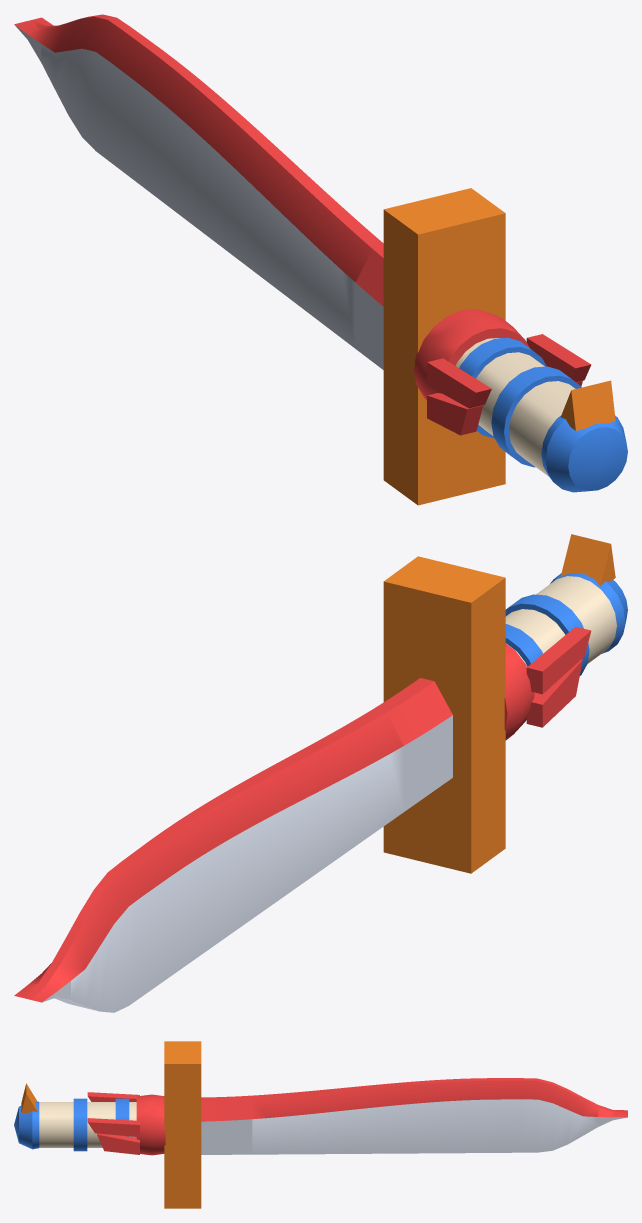
The model's file is Sword_BanditsMachete.glb.
3 views of the same model, one above another, from view 1: azimuth 30°, elevation 25°; view 2: azimuth 150°, elevation 25°; view 3: azimuth 270°, elevation 25° (orthographic). The views are drawn at different scales.
Parts seen in each view (by area): view 1: Sword_BanditsMachete; view 2: Sword_BanditsMachete; view 3: Sword_BanditsMachete.
Boxes of the visible parts, bbox=[...] form: Sword_BanditsMachete: bbox=[14, 14, 627, 505]; Sword_BanditsMachete: bbox=[14, 534, 627, 1012]; Sword_BanditsMachete: bbox=[14, 1041, 627, 1208].
Size of the model in its own units: 0.116 by 0.26 by 1.
1 material, 1 textured.
